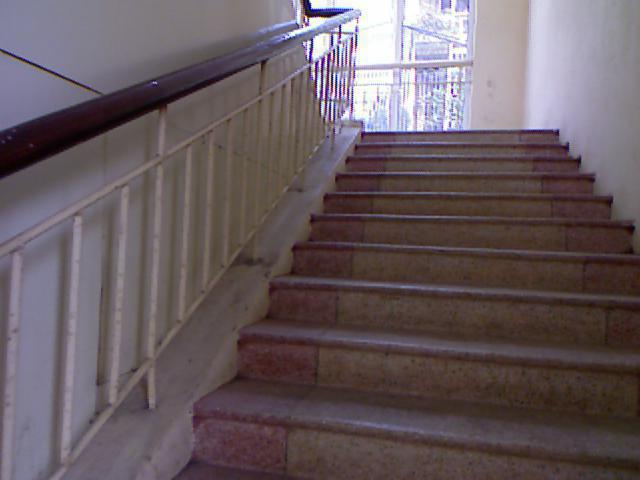Escaleras: (221, 132, 639, 479)
